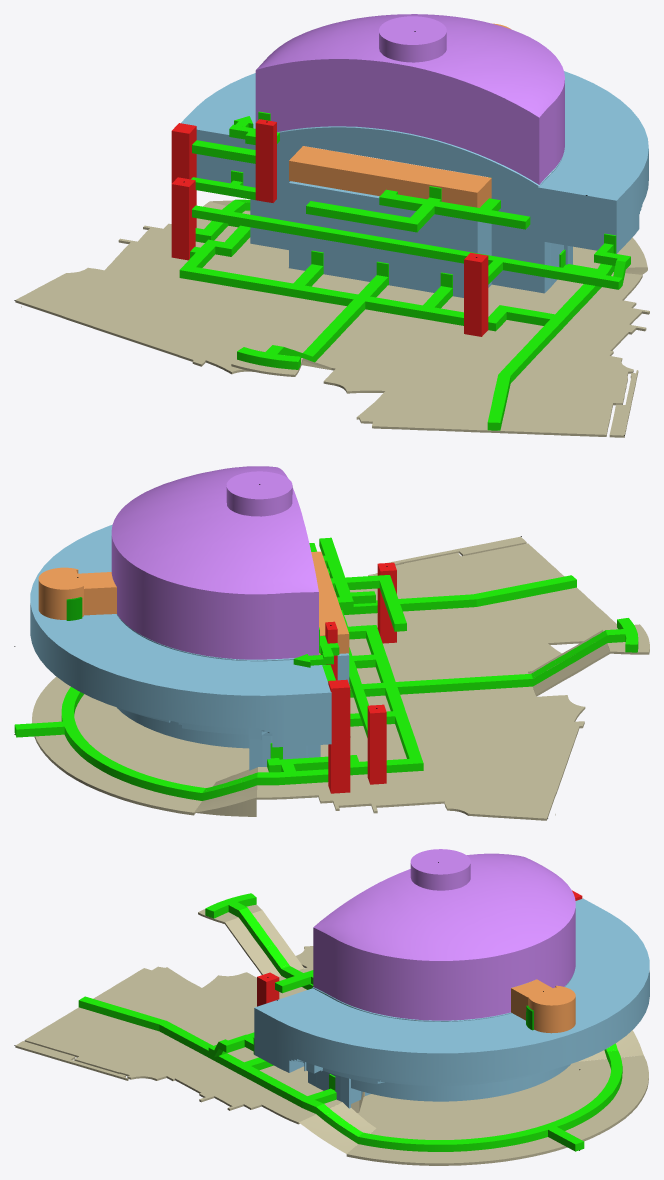
File: EMICYCLE_VOLUME.glb
3 renders of one model, top to bottom at view 1: azimuth 30°, elevation 25°; view 2: azimuth 150°, elevation 25°; view 3: azimuth 270°, elevation 25°, orthographic. The views are drawn at different scales.
Visible parts, largest first — view 1: 3D_PLANCHER_R+1, DETAIL BLOC EMICYCLE VOLUME PRINCIPAL, DETAIL BLOC EMICYCLE VOLUME STRUCTURE, 3D_CIRCULATIONS_H 03 DE MUN H_02 ROTONDE, 3D_ESCALIERS_02 ROTONDE, DETAIL BLOC EMICYCLE VOLUME LT; view 2: 3D_PLANCHER_R+1, DETAIL BLOC EMICYCLE VOLUME STRUCTURE, DETAIL BLOC EMICYCLE VOLUME PRINCIPAL, 3D_CIRCULATIONS_H 03 DE MUN H_02 ROTONDE, 3D_ESCALIERS_02 ROTONDE, DETAIL BLOC EMICYCLE VOLUME LT; view 3: 3D_PLANCHER_R+1, DETAIL BLOC EMICYCLE VOLUME STRUCTURE, DETAIL BLOC EMICYCLE VOLUME PRINCIPAL, 3D_CIRCULATIONS_H 03 DE MUN H_02 ROTONDE, DETAIL BLOC EMICYCLE VOLUME LT, 3D_ESCALIERS_02 ROTONDE.
Boxes of the visible parts, bbox=[...] form: 3D_PLANCHER_R+1: bbox=[15, 200, 649, 437]; DETAIL BLOC EMICYCLE VOLUME PRINCIPAL: bbox=[181, 71, 648, 297]; DETAIL BLOC EMICYCLE VOLUME STRUCTURE: bbox=[255, 14, 564, 184]; 3D_CIRCULATIONS_H 03 DE MUN H_02 ROTONDE: bbox=[179, 111, 630, 430]; 3D_ESCALIERS_02 ROTONDE: bbox=[171, 119, 488, 336]; DETAIL BLOC EMICYCLE VOLUME LT: bbox=[289, 23, 511, 207]; 3D_PLANCHER_R+1: bbox=[32, 536, 649, 820]; DETAIL BLOC EMICYCLE VOLUME STRUCTURE: bbox=[111, 466, 318, 659]; DETAIL BLOC EMICYCLE VOLUME PRINCIPAL: bbox=[30, 524, 349, 770]; 3D_CIRCULATIONS_H 03 DE MUN H_02 ROTONDE: bbox=[14, 537, 638, 800]; 3D_ESCALIERS_02 ROTONDE: bbox=[325, 562, 396, 793]; DETAIL BLOC EMICYCLE VOLUME LT: bbox=[38, 551, 349, 654]; 3D_PLANCHER_R+1: bbox=[15, 904, 648, 1165]; DETAIL BLOC EMICYCLE VOLUME STRUCTURE: bbox=[313, 849, 575, 1020]; DETAIL BLOC EMICYCLE VOLUME PRINCIPAL: bbox=[254, 898, 649, 1108]; 3D_CIRCULATIONS_H 03 DE MUN H_02 ROTONDE: bbox=[78, 893, 622, 1151]; DETAIL BLOC EMICYCLE VOLUME LT: bbox=[511, 979, 575, 1033]; 3D_ESCALIERS_02 ROTONDE: bbox=[257, 890, 582, 1006].
Size of the model in its own units: 50.35 by 21.3 by 56.74.
